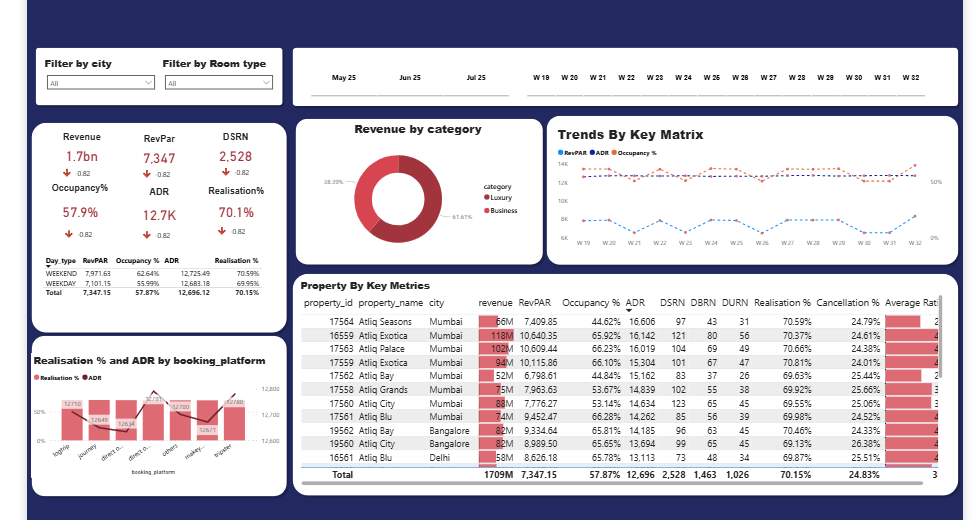

This screenshot's page, from the dashboard's own definition file:
{"tool":"powerbi","page":{"name":"Page 1","canvas":[1800,1100],"ordinal":0},"visuals":[{"type":"shape","box":[0,701.7,508.3,326.7],"z":0},{"type":"shape","box":[502.1,583,1297.9,444.7],"z":1000},{"type":"shape","box":[990.7,279.1,809.3,304.7],"z":2000},{"type":"shape","box":[508.3,285,493.3,298.3],"z":3000},{"type":"shape","box":[0,291.7,508.3,421.7],"z":4000},{"type":"shape","box":[502.3,148.8,1297.7,130.2],"z":5000},{"type":"tableEx","title":"Property By Key Metrics","fields":{"Values":["dim_hotels.property_id","dim_hotels.property_name","dim_hotels.city","Key_meawsures.revenue","Key_meawsures.RevPAR","Key_meawsures.Occupancy %","Key_meawsures.ADR","Key_meawsures.DSRN","Key_meawsures.DBRN","Key_meawsures.DURN","Key_meawsures.Realisation %","Key_meawsures.Cancellation %"]},"box":[521.3,600,1244.7,404.3],"z":6000},{"type":"slicer","fields":{"Values":["dim_date.mmm yy"]},"box":[521.6,172.5,429.4,84.3],"z":7000},{"type":"slicer","fields":{"Values":["dim_date.week no"]},"box":[937.3,172.5,813.7,84.3],"z":8000},{"type":"tableEx","fields":{"Values":["Key_meawsures.Revenue WoW change %"]},"box":[58.3,355,86.7,60],"z":9000},{"type":"donutChart","title":"Revenue by category","fields":{"Category":["dim_hotels.category"],"Y":["Key_meawsures.revenue"]},"box":[545,298.8,415,270],"z":10000},{"type":"card","title":"Revenue","fields":{"Values":["Key_meawsures.revenue"]},"box":[28.3,320,153.3,70],"z":11000},{"type":"tableEx","fields":{"Values":["Key_meawsures.Revenue WoW change %"]},"box":[211,357.1,85.7,62.1],"z":12000},{"type":"tableEx","fields":{"Values":["Key_meawsures.Revenue WoW change %"]},"box":[356.5,467.7,90,64.3],"z":13000},{"type":"card","title":"RevPar","fields":{"Values":["Key_meawsures.RevPAR"]},"box":[174.5,322.8,158.6,68.6],"z":14000},{"type":"lineChart","title":"Trends By Key Matrix","fields":{"Category":["dim_date.mmm yy.Variation.Date Hierarchy.Month","dim_date.week no"],"Y":["Key_meawsures.RevPAR","Key_meawsures.ADR"],"Y2":["Key_meawsures.Occupancy %"]},"box":[1015,305,750,245],"z":15000},{"type":"lineStackedColumnComboChart","fields":{"Category":["fact_bookings.booking_platform"],"Y":["Key_meawsures.Realisation %"],"Y2":["Key_meawsures.ADR"]},"box":[8.3,745,483.3,240],"z":16000},{"type":"tableEx","fields":{"Values":["dim_date.day_type","Key_meawsures.RevPAR","Key_meawsures.Occupancy %","Key_meawsures.ADR","Key_meawsures.Realisation %"]},"box":[25.5,551.1,448.9,114.9],"z":17000},{"type":"tableEx","fields":{"Values":["Key_meawsures.Revenue WoW change %"]},"box":[362.9,354.1,75.7,60.7],"z":18000},{"type":"tableEx","fields":{"Values":["Key_meawsures.Revenue WoW change %"]},"box":[62,474,86,57],"z":19000},{"type":"tableEx","fields":{"Values":["Key_meawsures.Revenue WoW change %"]},"box":[211,474.3,85.7,59.3],"z":20000},{"type":"card","title":"ADR","fields":{"Values":["Key_meawsures.ADR"]},"box":[174.5,424.3,158.6,85],"z":21000},{"type":"card","title":"Realisation%","fields":{"Values":["Key_meawsures.Realisation %"]},"box":[322.2,422.7,158.6,78.6],"z":22000},{"type":"card","title":"Occupancy%","fields":{"Values":["Key_meawsures.Occupancy %"]},"box":[23,418,158,91],"z":23000},{"type":"card","title":"DSRN","fields":{"Values":["Key_meawsures.DSRN"]},"box":[320.8,319.8,160,68.6],"z":24000},{"type":"shape","box":[8.6,148.6,492.9,128.6],"z":25000},{"type":"slicer","title":"Filter by city","fields":{"Values":["dim_hotels.city"]},"box":[28.8,172.5,227.5,84.3],"z":26000},{"type":"slicer","title":"Filter by Room type","fields":{"Values":["dim_rooms.room_class"]},"box":[256.3,172.5,227.5,84.3],"z":27000}]}

Visuals, with their boxes on the page's 1800x1100 design canvas (x1, y1, x2, y2). These are canvas units, not pixel positions in the 978x520 screenshot, which may show the page scaled, cropped or inside an application window:
shape: x1=0, y1=702, x2=508, y2=1028
shape: x1=502, y1=583, x2=1800, y2=1028
shape: x1=991, y1=279, x2=1800, y2=584
shape: x1=508, y1=285, x2=1002, y2=583
shape: x1=0, y1=292, x2=508, y2=713
shape: x1=502, y1=149, x2=1800, y2=279
"Property By Key Metrics" tableEx: x1=521, y1=600, x2=1766, y2=1004
slicer - dim_date.mmm yy: x1=522, y1=172, x2=951, y2=257
slicer - dim_date.week no: x1=937, y1=172, x2=1751, y2=257
tableEx - Key_meawsures.Revenue WoW change %: x1=58, y1=355, x2=145, y2=415
"Revenue by category" donutChart: x1=545, y1=299, x2=960, y2=569
"Revenue" card: x1=28, y1=320, x2=182, y2=390
tableEx - Key_meawsures.Revenue WoW change %: x1=211, y1=357, x2=297, y2=419
tableEx - Key_meawsures.Revenue WoW change %: x1=356, y1=468, x2=446, y2=532
"RevPar" card: x1=174, y1=323, x2=333, y2=391
"Trends By Key Matrix" lineChart: x1=1015, y1=305, x2=1765, y2=550
lineStackedColumnComboChart - fact_bookings.booking_platform x Key_meawsures.Realisation %: x1=8, y1=745, x2=492, y2=985
tableEx - dim_date.day_type x Key_meawsures.RevPAR: x1=26, y1=551, x2=474, y2=666
tableEx - Key_meawsures.Revenue WoW change %: x1=363, y1=354, x2=439, y2=415
tableEx - Key_meawsures.Revenue WoW change %: x1=62, y1=474, x2=148, y2=531
tableEx - Key_meawsures.Revenue WoW change %: x1=211, y1=474, x2=297, y2=534
"ADR" card: x1=174, y1=424, x2=333, y2=509
"Realisation%" card: x1=322, y1=423, x2=481, y2=501
"Occupancy%" card: x1=23, y1=418, x2=181, y2=509
"DSRN" card: x1=321, y1=320, x2=481, y2=388
shape: x1=9, y1=149, x2=502, y2=277
"Filter by city" slicer: x1=29, y1=172, x2=256, y2=257
"Filter by Room type" slicer: x1=256, y1=172, x2=484, y2=257
